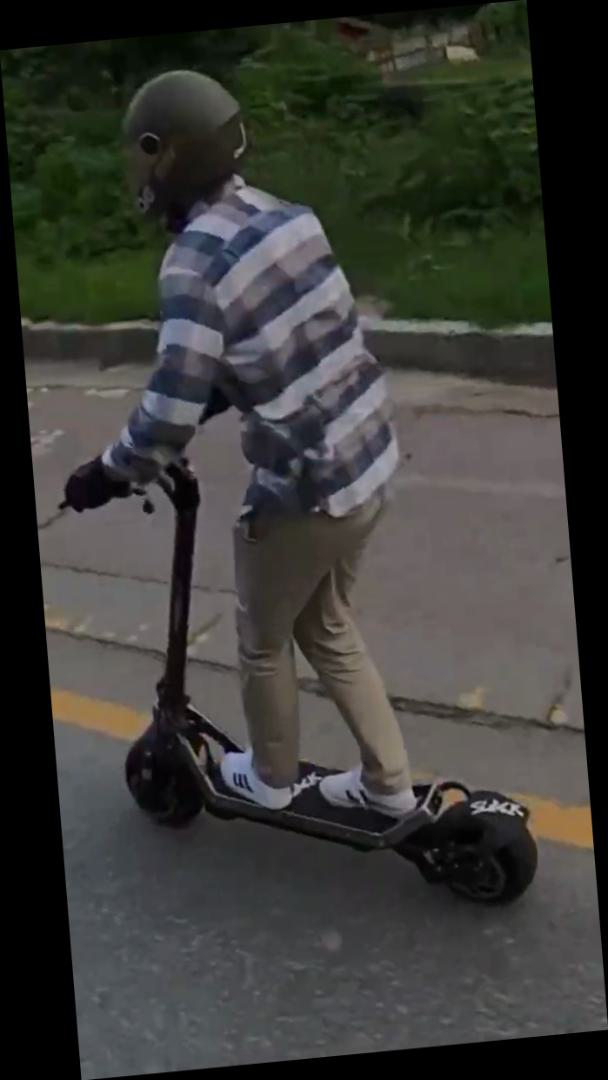helmet: (22, 37, 544, 946)
